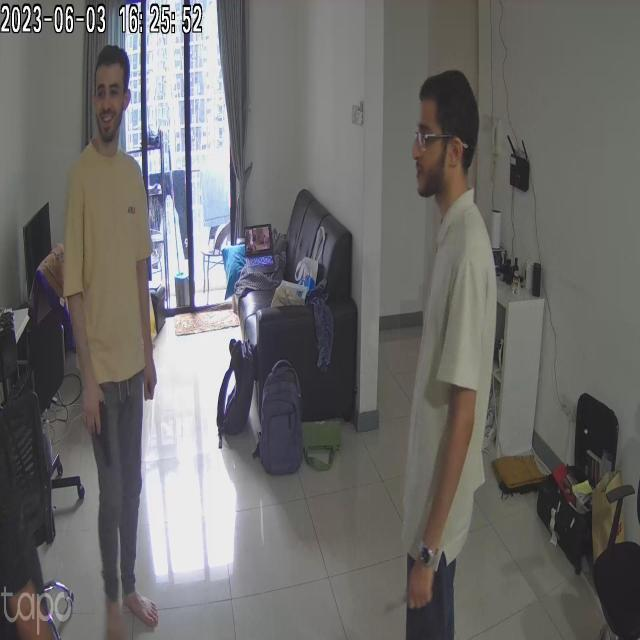Gun: (80, 393, 130, 469)
